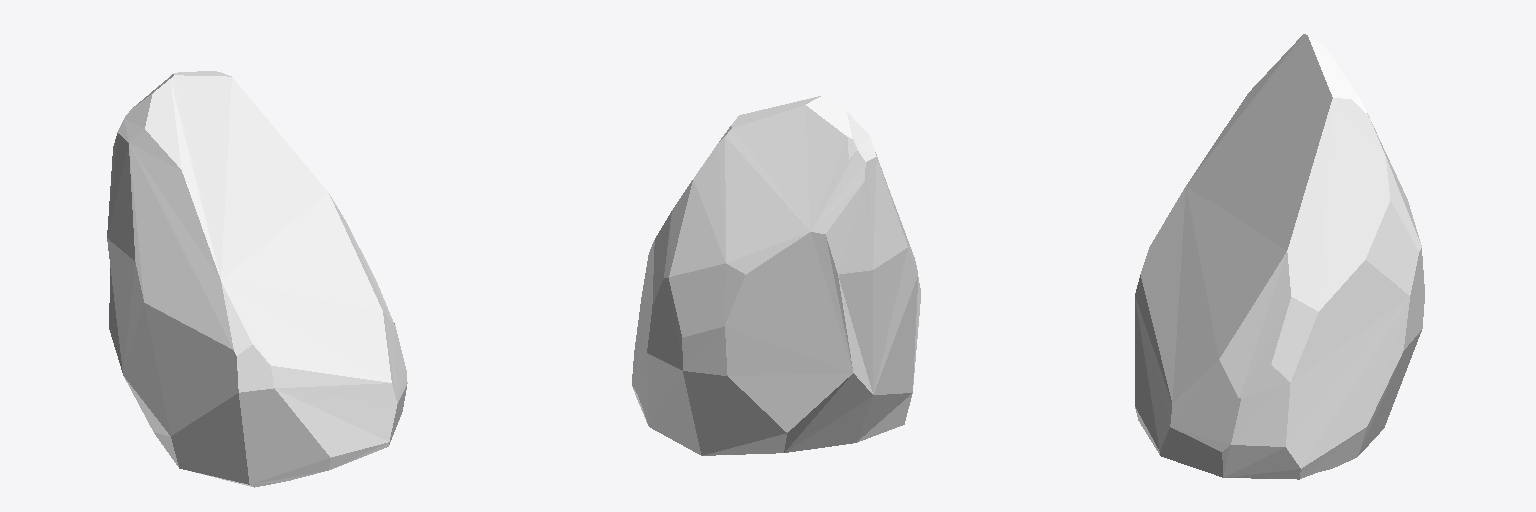
The model's file is rock11.obj.
3 renders of one model, left to right at view 1: azimuth 30°, elevation 25°; view 2: azimuth 150°, elevation 25°; view 3: azimuth 270°, elevation 25°, orthographic.
Parts seen in each view (by area): view 1: Rocks11; view 2: Rocks11; view 3: Rocks11.
Boxes of the visible parts, x1=… form: Rocks11: x1=107, y1=71, x2=407, y2=487; Rocks11: x1=632, y1=96, x2=920, y2=455; Rocks11: x1=1135, y1=34, x2=1424, y2=479.
Size of the model in its own units: 1.83 by 2.49 by 1.75.